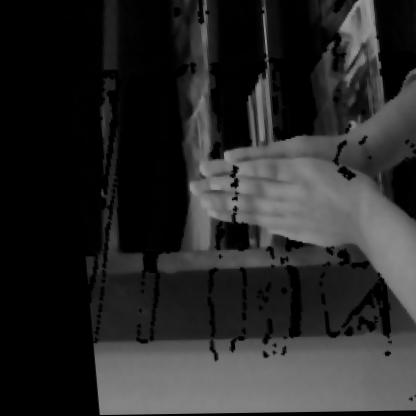namaste: (160, 22, 415, 324)
